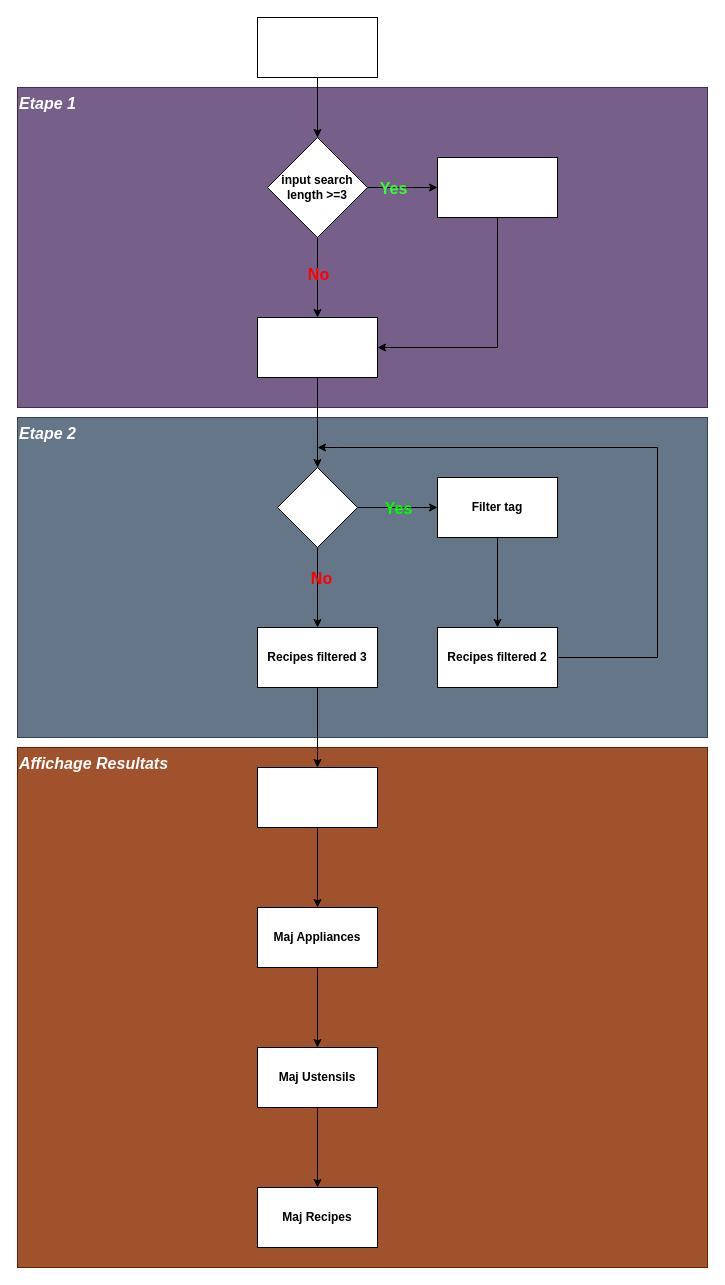
Image size: 725x1285. Some labels were removed from this diagram. The shapes that lost their labels are listed below. From the top down, each one's centre as x and y in pixels, then its label:
At point 317,47: "All Recipes".
At point 497,187: "Tri recipes search for input".
At point 317,347: "Recipes filtered 1".
At point 317,507: "Test Tag ?".
At point 317,797: "Maj Ingrdients".
